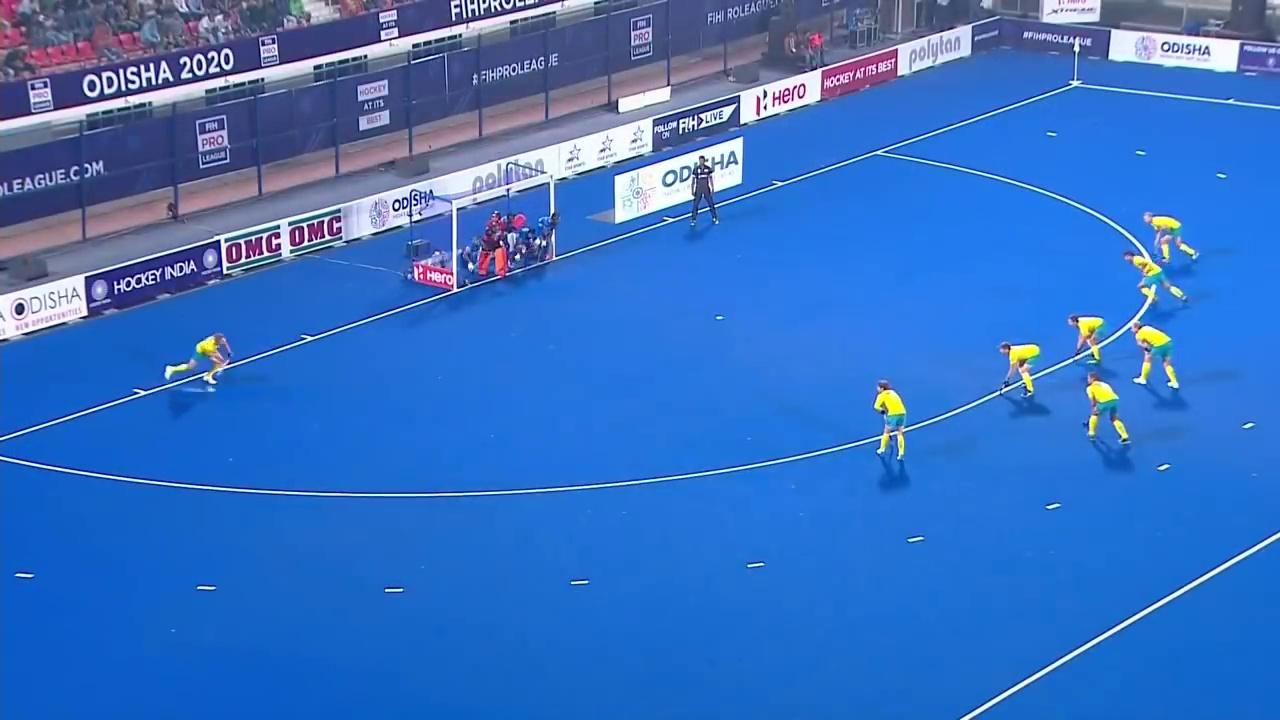ball: (202, 385, 218, 394)
